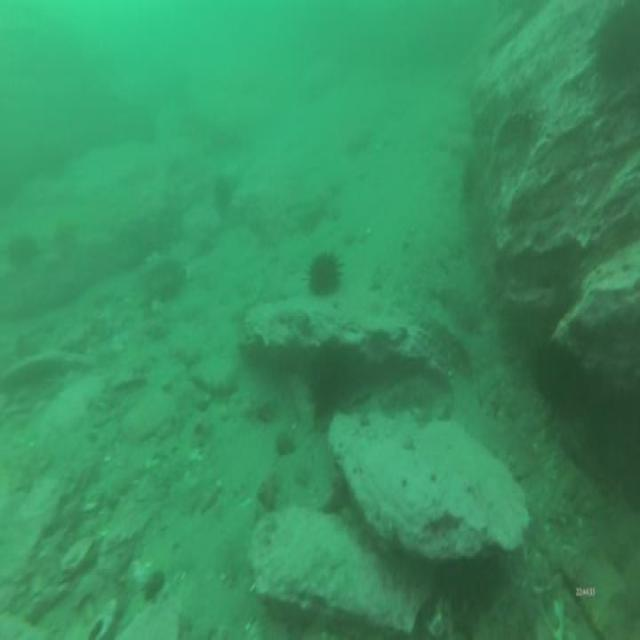echinus: (592, 0, 640, 93), (303, 332, 350, 419), (306, 246, 343, 304), (1, 231, 43, 270), (212, 175, 234, 223)
